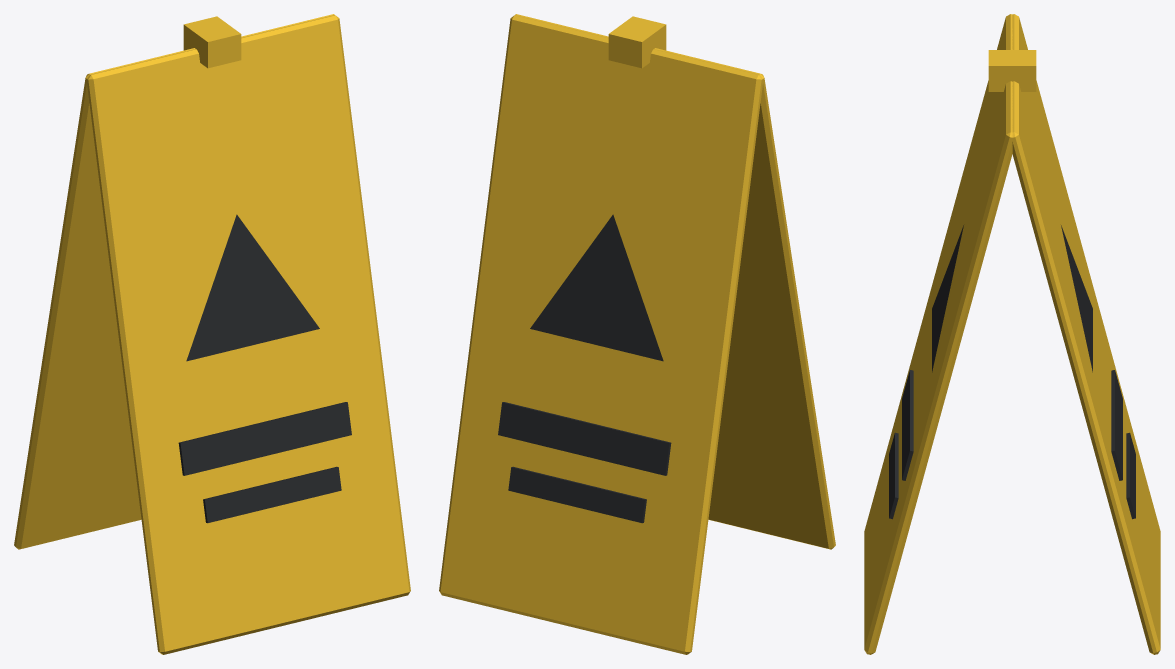
The model's file is wet_floor_sign.glb.
3 renders of one model, left to right at view 1: azimuth 30°, elevation 25°; view 2: azimuth 150°, elevation 25°; view 3: azimuth 270°, elevation 25°, orthographic.
Parts seen in each view (by area): view 1: WetFloorSign; view 2: WetFloorSign; view 3: WetFloorSign.
Part boxes in pixels (x1,y1,x2,y2): WetFloorSign: (14, 14, 410, 654); WetFloorSign: (439, 14, 835, 654); WetFloorSign: (864, 14, 1160, 654).
Size of what is drawn, in the model's own units: 0.3 by 0.62 by 0.3097.
